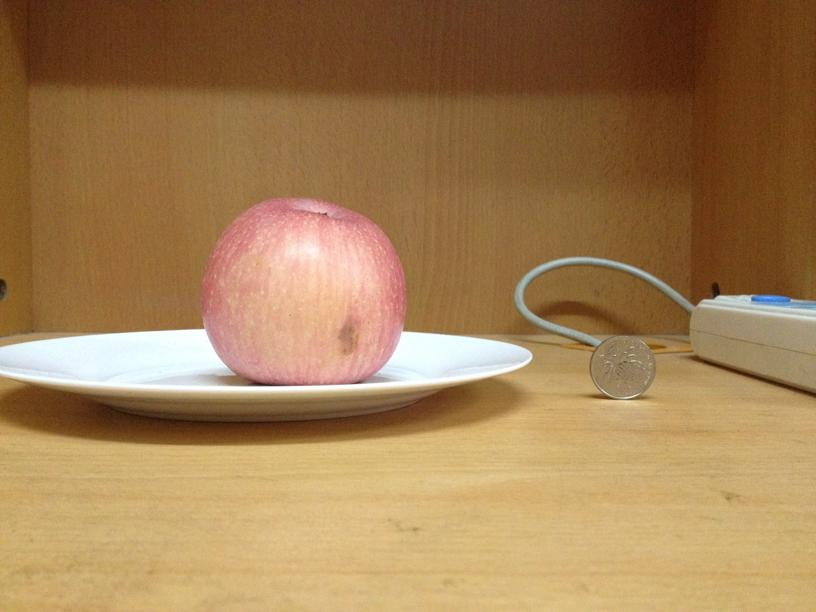apple: (195, 199, 409, 385)
coin: (590, 333, 657, 400)
